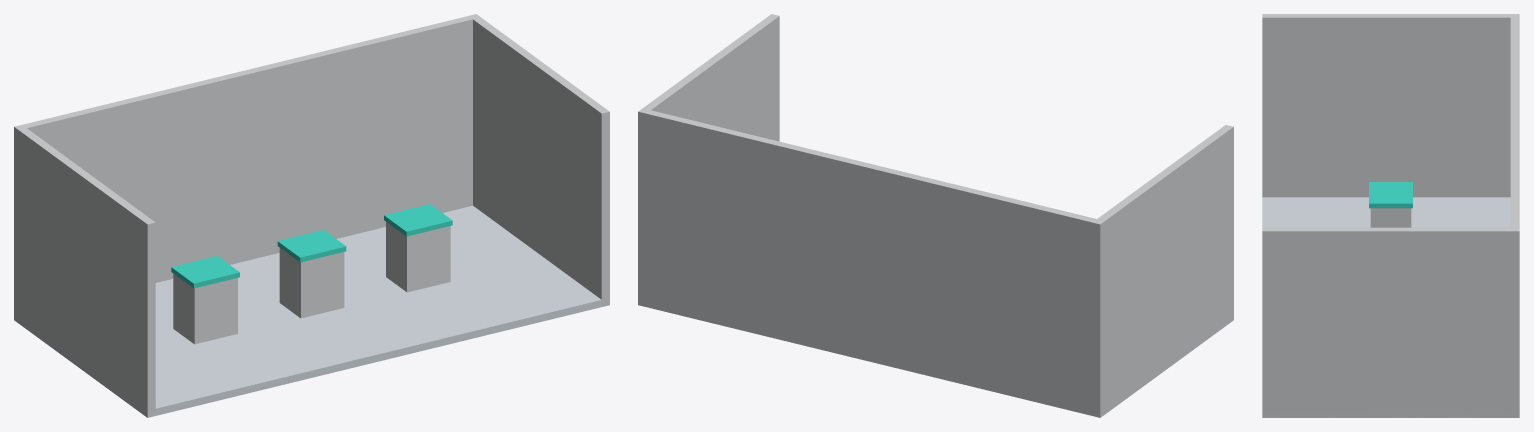
3 views of the same model, side by side, from view 1: azimuth 30°, elevation 25°; view 2: azimuth 150°, elevation 25°; view 3: azimuth 270°, elevation 25° (orthographic). The views are drawn at different scales.
Parts seen in each view (by area): view 1: Exhibition Booth Concept; view 2: Exhibition Booth Concept; view 3: Exhibition Booth Concept.
Part boxes in pixels (x1,y1,x2,y2): Exhibition Booth Concept: (14,14,609,417); Exhibition Booth Concept: (638,14,1233,417); Exhibition Booth Concept: (1262,14,1519,417).
Bounding box in the file's own units: 8 × 3.2 × 4.
